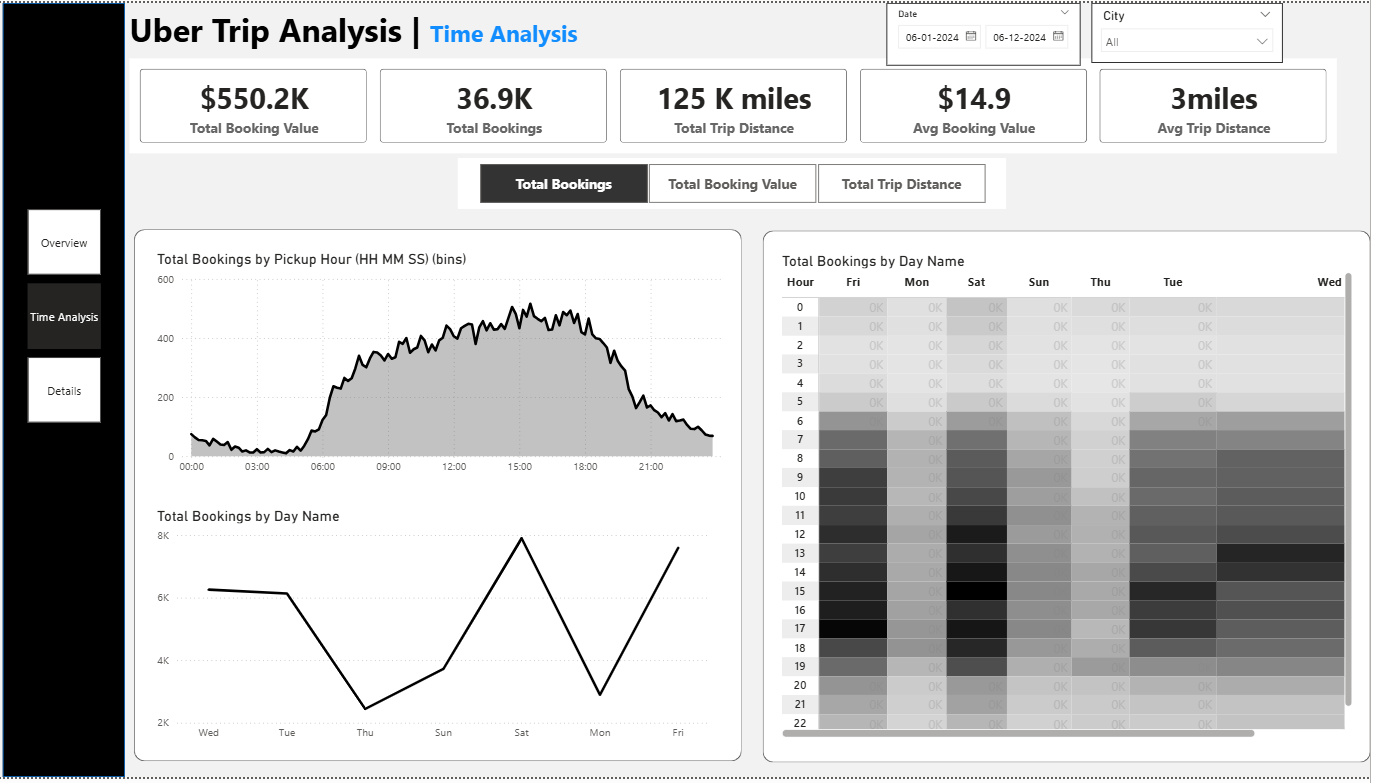

The dashboard page shown, as its layout file describes it:
{"tool":"powerbi","page":{"name":"Time Analysis","canvas":[1600,900],"ordinal":1},"visuals":[{"type":"shape","box":[10.3,0,142,900],"z":0},{"type":"textbox","box":[152.2,0,773.9,69.6],"z":1000},{"type":"cardVisual","fields":{"Data":["Trips.Total Booking Value","Trips.Total Bookings","Trips.Total Trip Distance","Trips.Avg Booking Amount","Trips.Avg Trip Distance"]},"box":[152.2,59.4,1414.5,120.3],"z":2000},{"type":"shape","box":[162.7,262.7,706.8,618.6],"z":3000},{"type":"slicer","fields":{"Values":["Dynamic Measure.Dynamic Measure"]},"box":[539,179.7,637.3,59.3],"z":4000},{"type":"shape","box":[893.2,264.4,706.8,618.6],"z":5000},{"type":"slicer","fields":{"Values":["Calendar Table.Date"]},"box":[1037.3,0,225.4,72.9],"z":6000},{"type":"slicer","fields":{"Values":["Locations.City"]},"box":[1276.3,0,222,69.5],"z":7000},{"type":"areaChart","fields":{"Y":["Trips.Total Bookings"],"Category":["Trips.Pickup Hour (HH MM SS) (bins)"]},"box":[184.7,288.1,671.2,269.5],"z":8000},{"type":"lineChart","fields":{"Y":["Trips.Total Bookings"],"Category":["Calendar Table.Day Name"]},"box":[184.7,586.4,652.5,281.4],"z":9000},{"type":"pivotTable","title":"Total Bookings by Day Name","fields":{"Values":["Trips.Total Bookings"],"Rows":["Trips.Pickup Hour"],"Columns":["Calendar Table.Day Name"]},"box":[911.9,289.8,672.9,569.5],"z":10000},{"type":"pageNavigator","box":[38.6,240,85.7,248.6],"z":11000}]}

Visuals, with their boxes on the page's 1600x900 design canvas (x1, y1, x2, y2). These are canvas units, not pixel positions in the 1375x783 screenshot, which may show the page scaled, cropped or inside an application window:
shape: (10,0,152,900)
textbox: (152,0,926,70)
cardVisual - Trips.Total Booking Value x Trips.Total Bookings: (152,59,1567,180)
shape: (163,263,870,881)
slicer - Dynamic Measure.Dynamic Measure: (539,180,1176,239)
shape: (893,264,1600,883)
slicer - Calendar Table.Date: (1037,0,1263,73)
slicer - Locations.City: (1276,0,1498,70)
areaChart - Trips.Total Bookings x Trips.Pickup Hour (HH MM SS) (bins): (185,288,856,558)
lineChart - Trips.Total Bookings x Calendar Table.Day Name: (185,586,837,868)
"Total Bookings by Day Name" pivotTable: (912,290,1585,859)
pageNavigator: (39,240,124,489)
